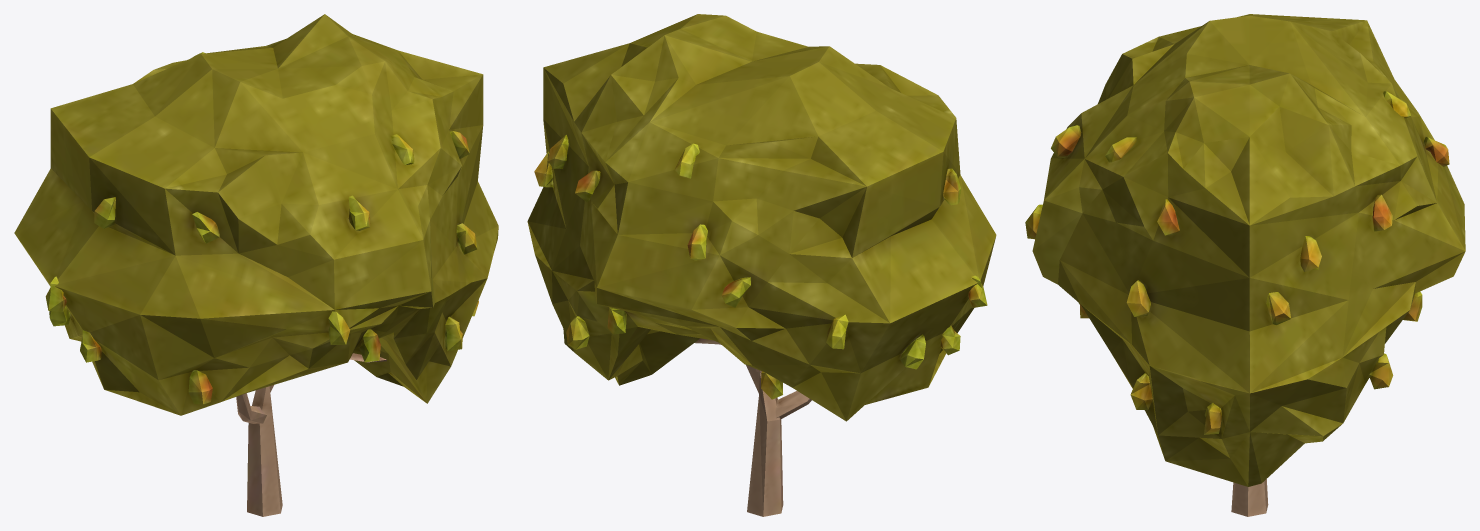
The model's file is pear.glb.
3 renders of one model, left to right at view 1: azimuth 30°, elevation 25°; view 2: azimuth 150°, elevation 25°; view 3: azimuth 270°, elevation 25°, orthographic. The views are drawn at different scales.
Parts seen in each view (by area): view 1: PeerTree_mesh; view 2: PeerTree_mesh; view 3: PeerTree_mesh.
Part boxes in pixels (bbox=[...]): PeerTree_mesh: bbox=[14, 14, 498, 516]; PeerTree_mesh: bbox=[527, 14, 996, 516]; PeerTree_mesh: bbox=[1025, 14, 1465, 516].
Bounding box in the file's own units: 12.3 × 12 × 10.08.
1 material, 1 textured.
